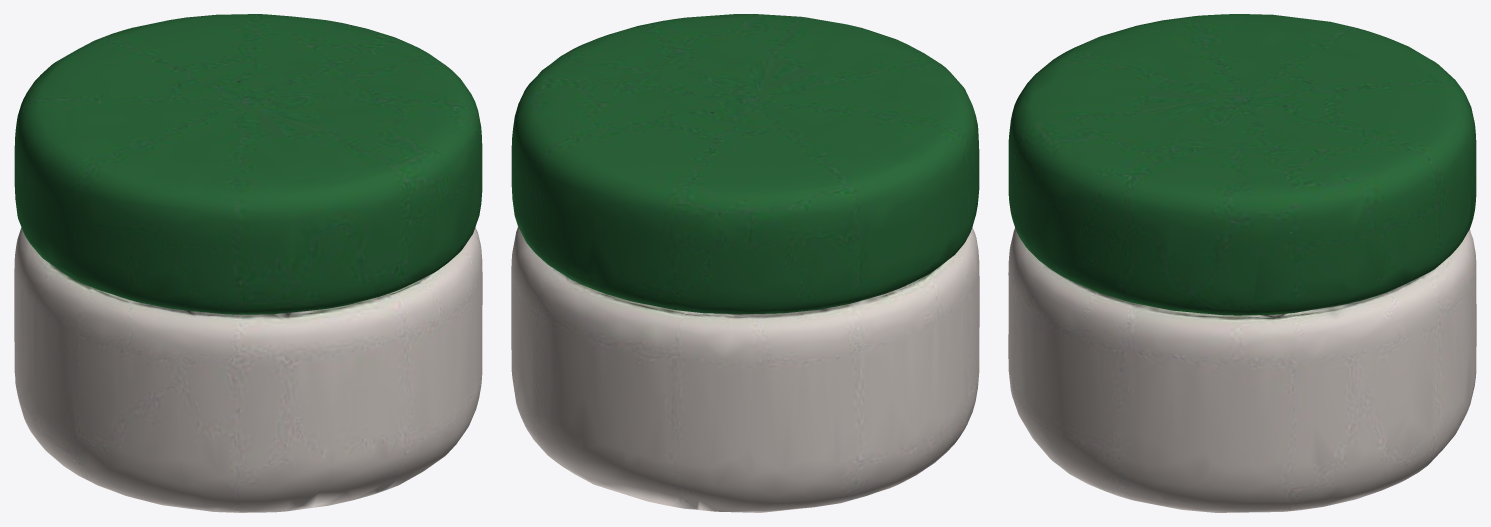
Rendered from obj-package.glb.
The picture shows the model from 3 angles, left to right: view 1: azimuth 30°, elevation 25°; view 2: azimuth 150°, elevation 25°; view 3: azimuth 270°, elevation 25°; orthographic projection.
Parts seen in each view (by area): view 1: tripo_node_4b2d0d1c-a57c-421d-9440-89750989555c; view 2: tripo_node_4b2d0d1c-a57c-421d-9440-89750989555c; view 3: tripo_node_4b2d0d1c-a57c-421d-9440-89750989555c.
Part boxes in pixels (x1,y1,x2,y2): tripo_node_4b2d0d1c-a57c-421d-9440-89750989555c: (14,14,482,512); tripo_node_4b2d0d1c-a57c-421d-9440-89750989555c: (511,14,979,512); tripo_node_4b2d0d1c-a57c-421d-9440-89750989555c: (1008,14,1476,512).
Size of the model in its own units: 0.9796 by 0.7545 by 0.9793.
1 material, 1 textured.
